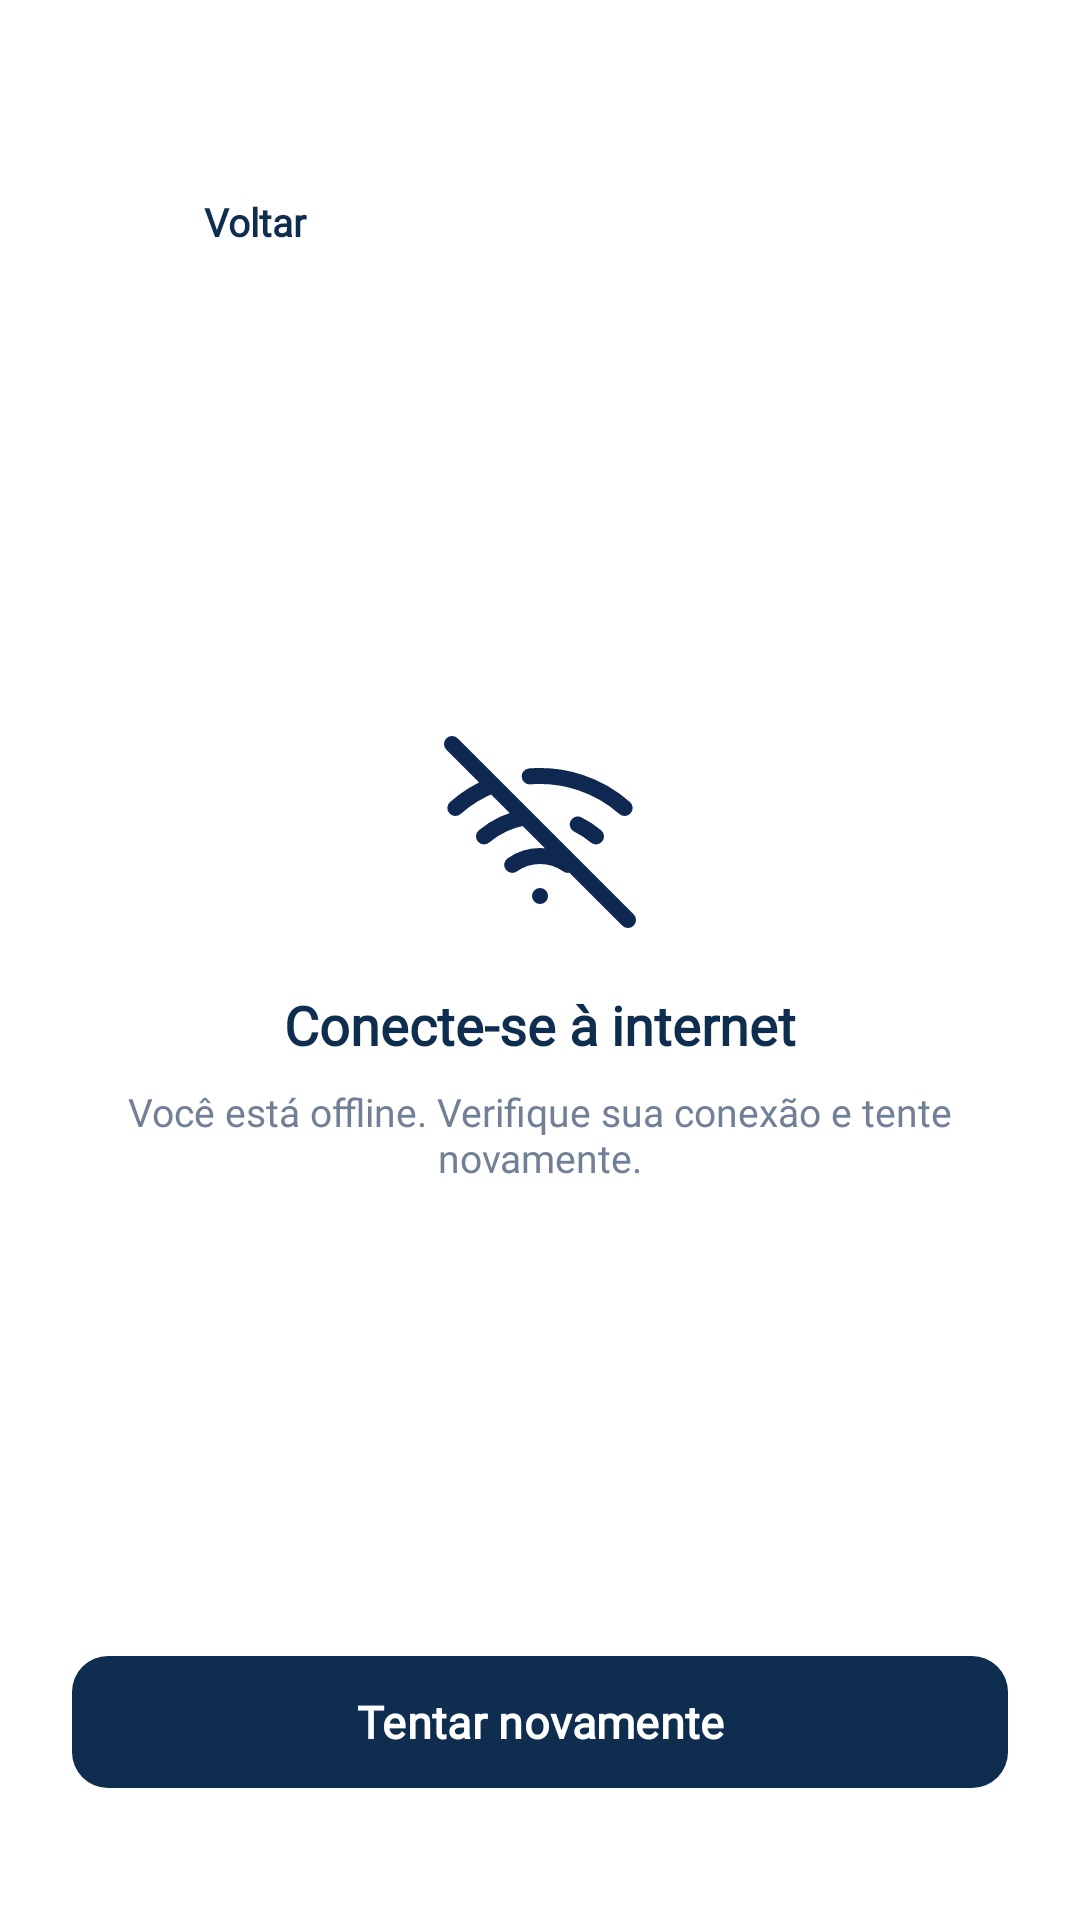

Point at icon controls on the screen. Image size 1080x1920, points as [x,y].
Estado de erro: [540,832]
